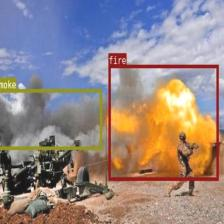fire: (108, 64, 218, 180)
smoke: (0, 88, 101, 149)
